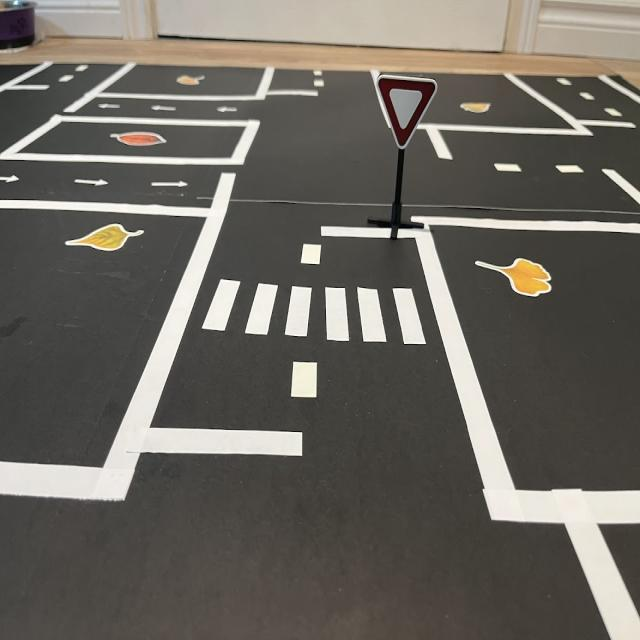road_crosswalk: (192, 269, 435, 351)
road_oneway: (71, 174, 113, 192), (150, 177, 191, 194), (1, 168, 23, 188), (151, 103, 179, 117), (97, 101, 123, 113), (216, 103, 242, 115)
sign_yield: (378, 76, 439, 149)
